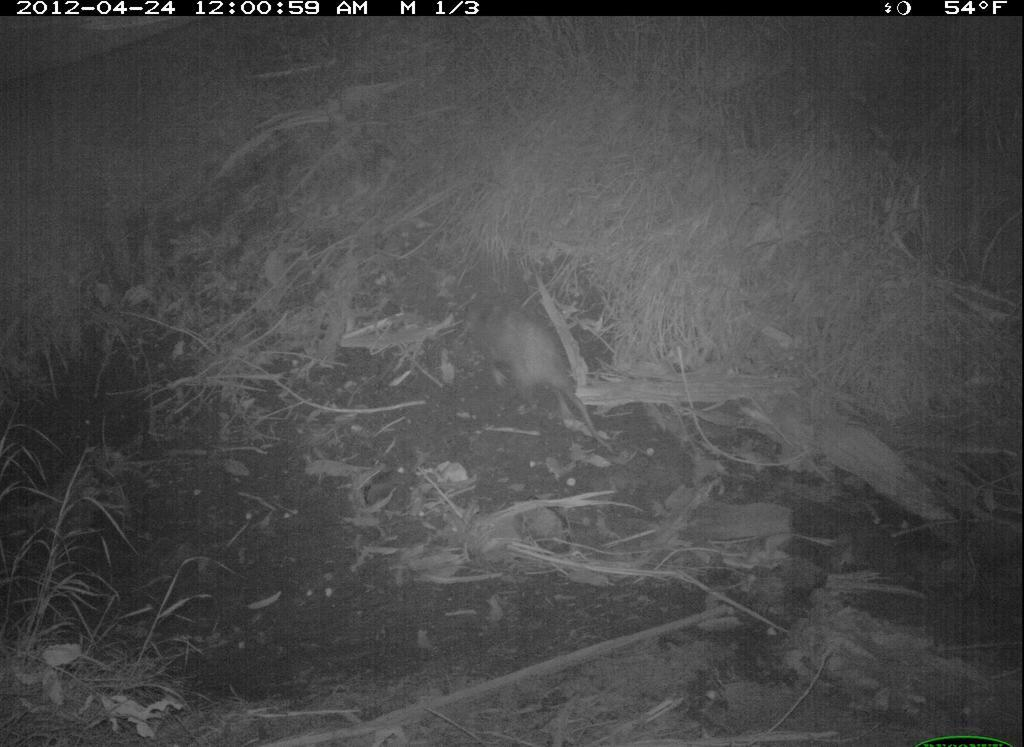opossum: (464, 291, 603, 443)
